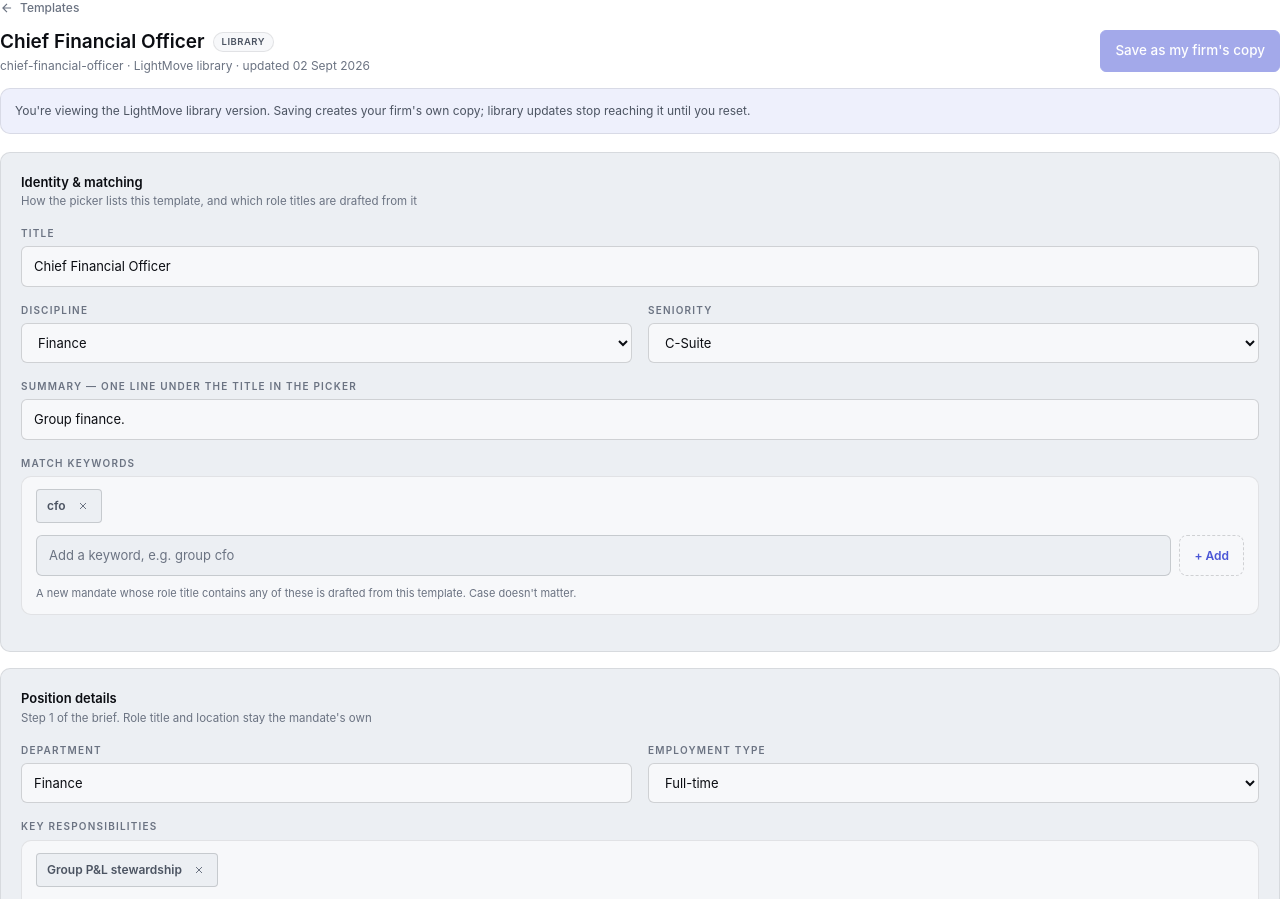
TemplateEditorPage — a firm editing a template › does not overwrite a save somebody else made first — Reload replaces the draft with theirs
The width and height of the screenshot is (1280, 899).
Type " & Treasury" into the field labelled "Department" at (326, 783), box [21,762,632,803]
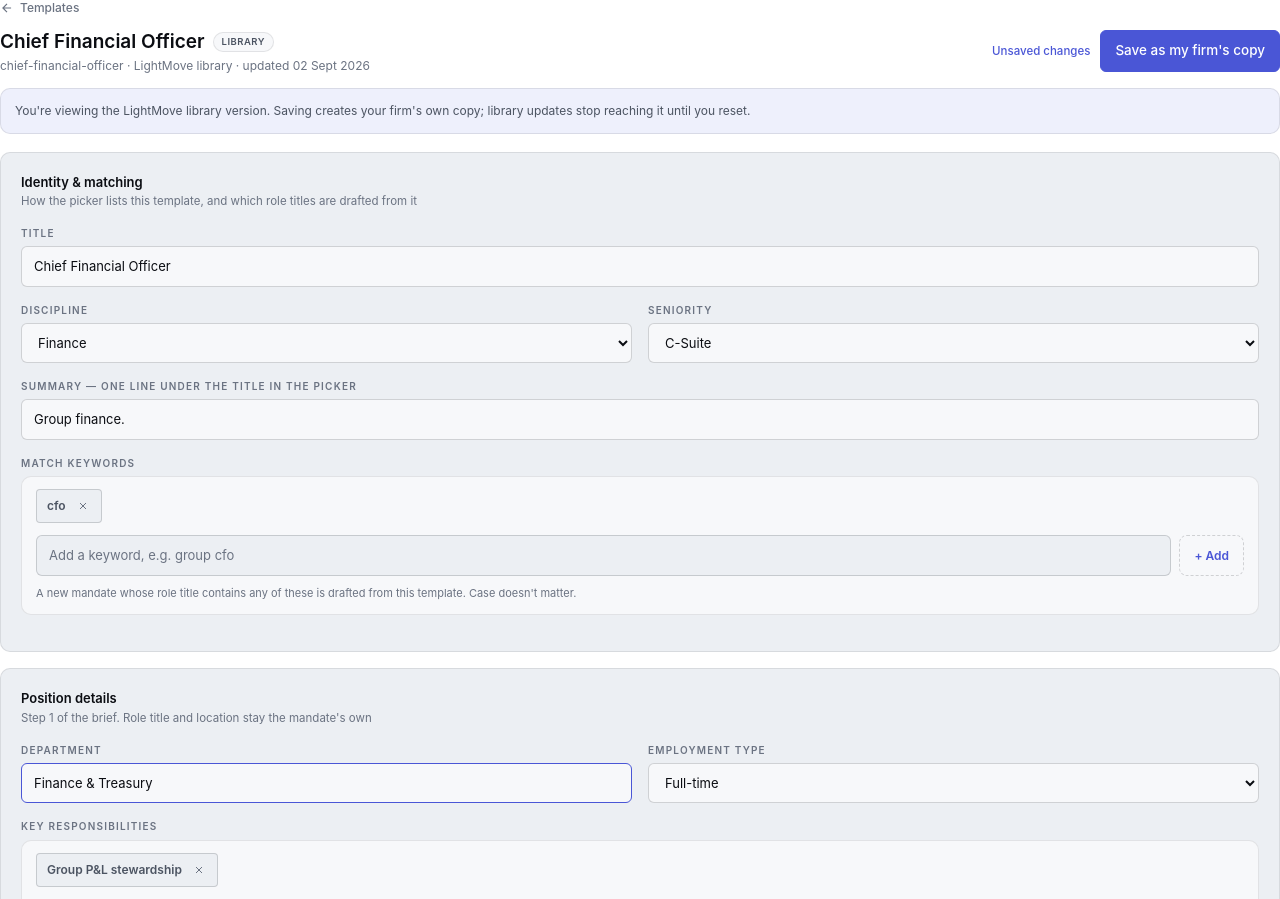
Click the button "Save as my firm's copy" at (1190, 51), box [1100,30,1279,72]
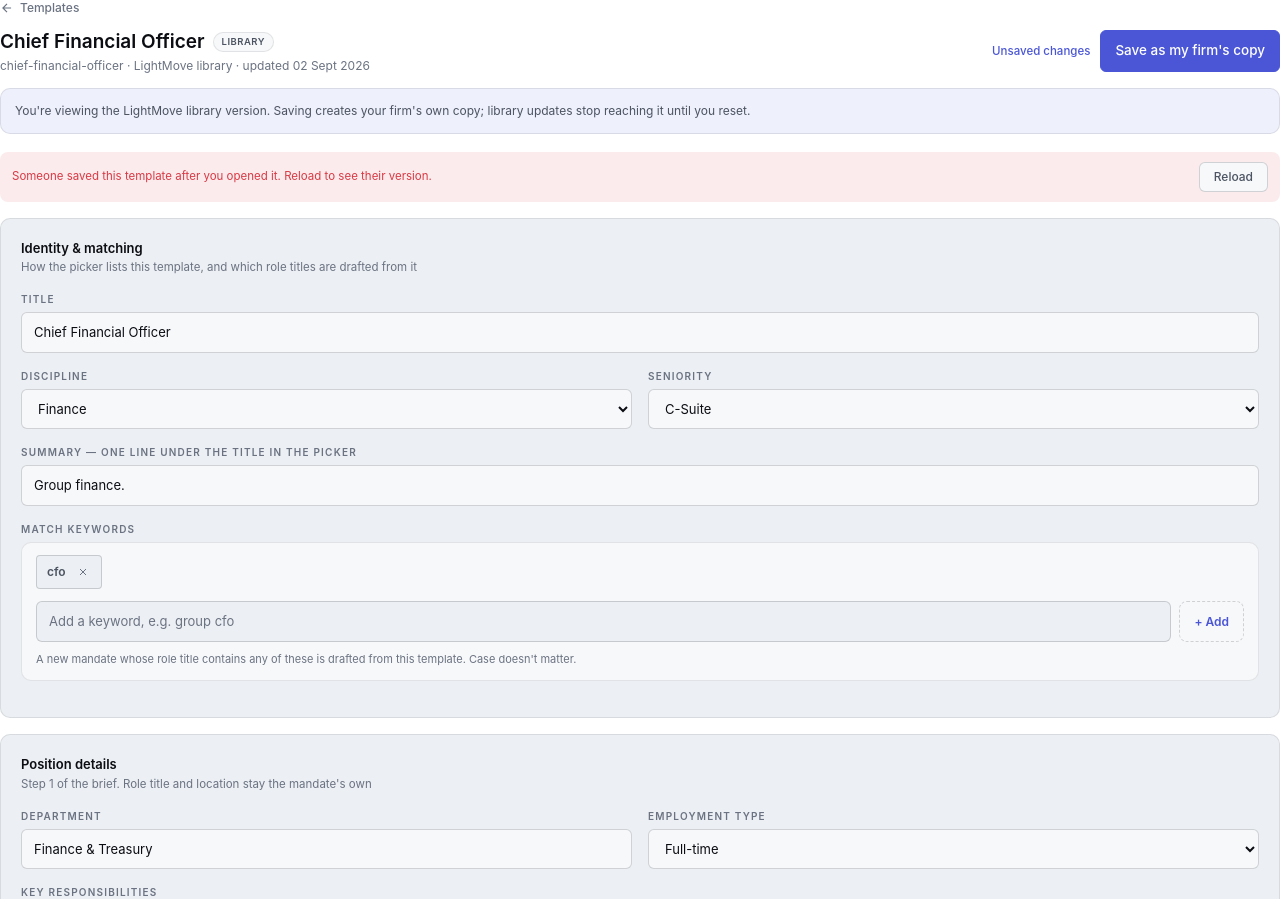
Expected: the text "Someone saved this template after you opened it" is shown, [12,169,432,183]
Click the button "Reload" at (1233, 176), box [1199,162,1268,192]
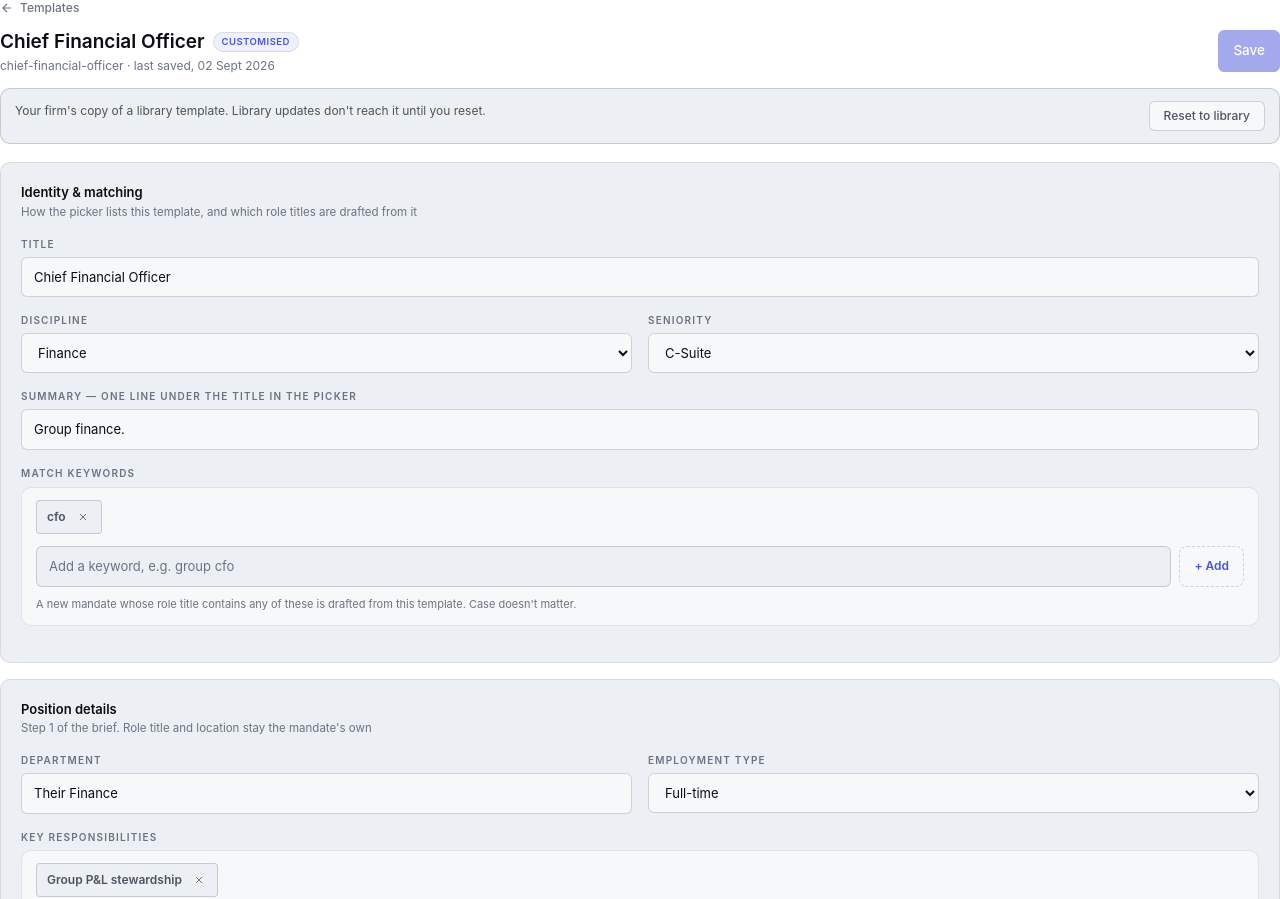
Expected: the field showing "Their Finance" is shown, [21,773,632,814]
Expected: the text "Someone saved this template after you opened it" is gone
